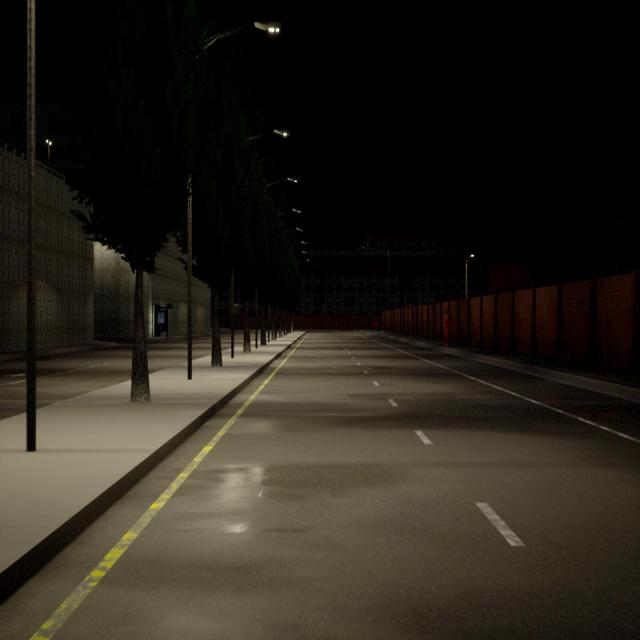Pedestrian: (442, 309, 450, 347)
